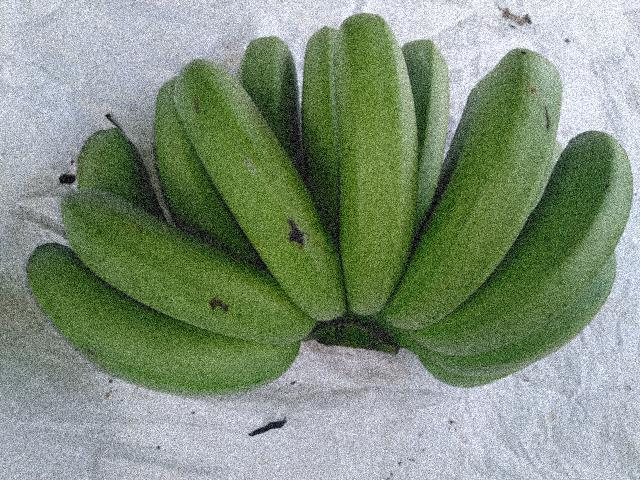freshunripe: (451, 130, 631, 352), (322, 12, 428, 339)
unripe: (409, 40, 574, 343), (176, 47, 355, 323), (38, 179, 316, 340), (15, 256, 289, 404)
